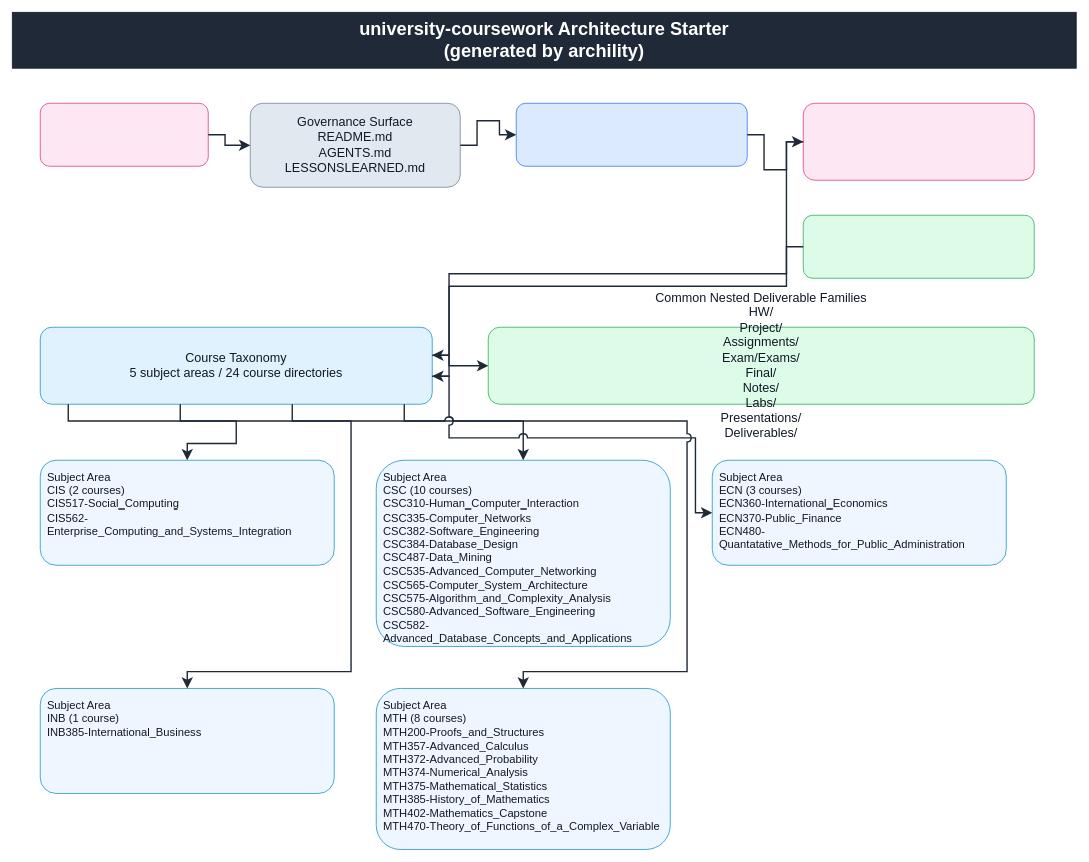
The diagram is 1089 pixels wide and 862 high, and some of its shapes have lost their labels. Each missing label, with the box of its shape:
Automation .github/workflows/: (803, 215, 1034, 278)
Blueprint docs/contributor-architecture-blueprint.md: (516, 103, 747, 166)
Contributor maintains repo shape: (40, 103, 208, 166)
Diagram Sources repo-architecture.puml repo-architecture.drawio: (803, 103, 1034, 180)
